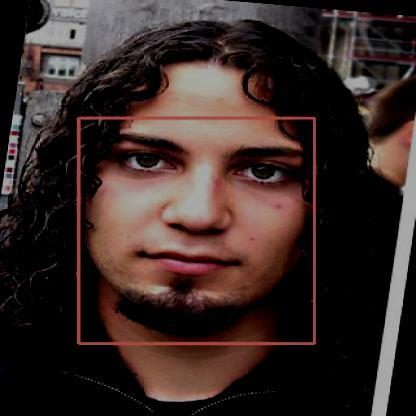without_mask: (78, 118, 313, 343)
